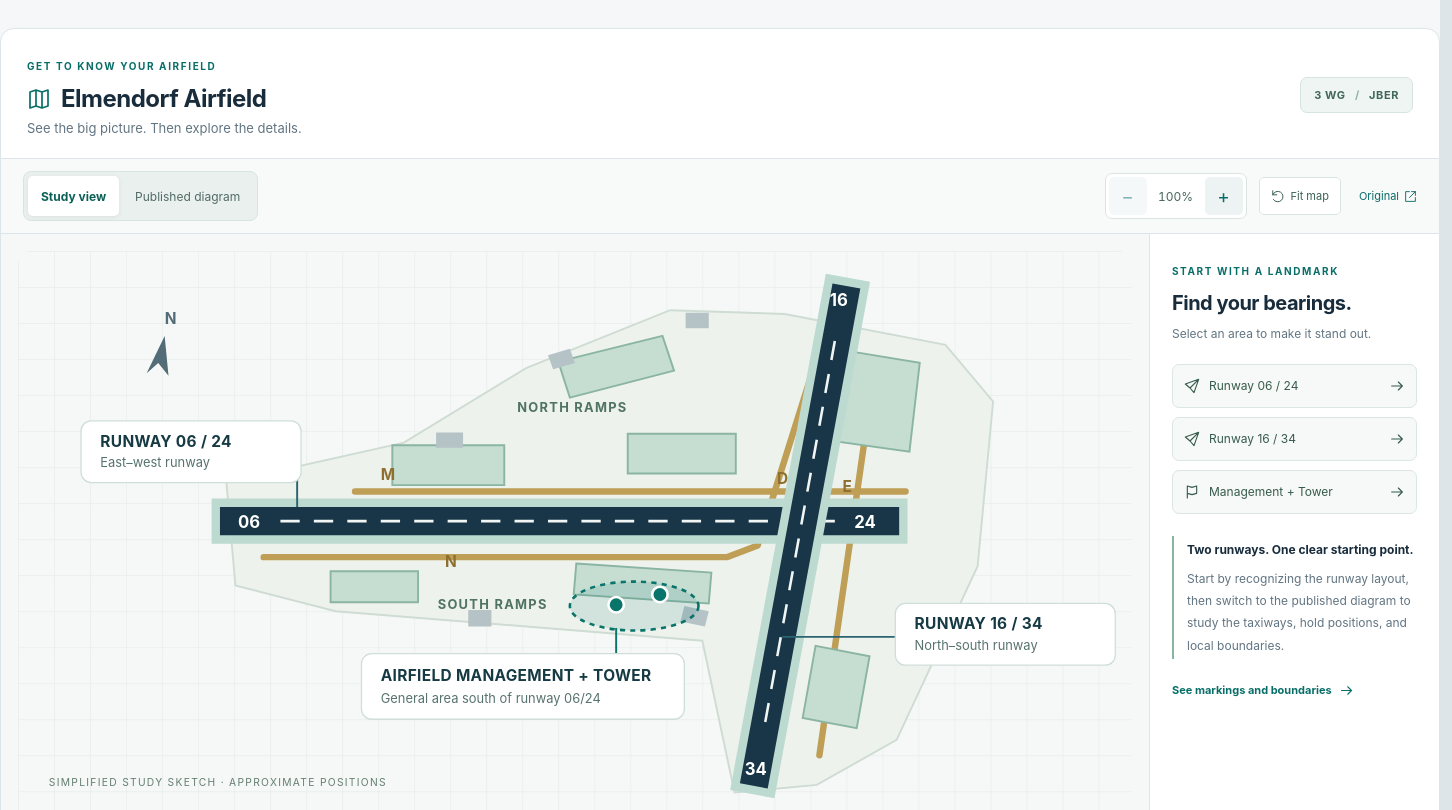
Test case: fit map resets both zoom and a focused feature
Click the button with aria-label "focus on runway 06" at (1294, 386), box [1172,364,1417,408]
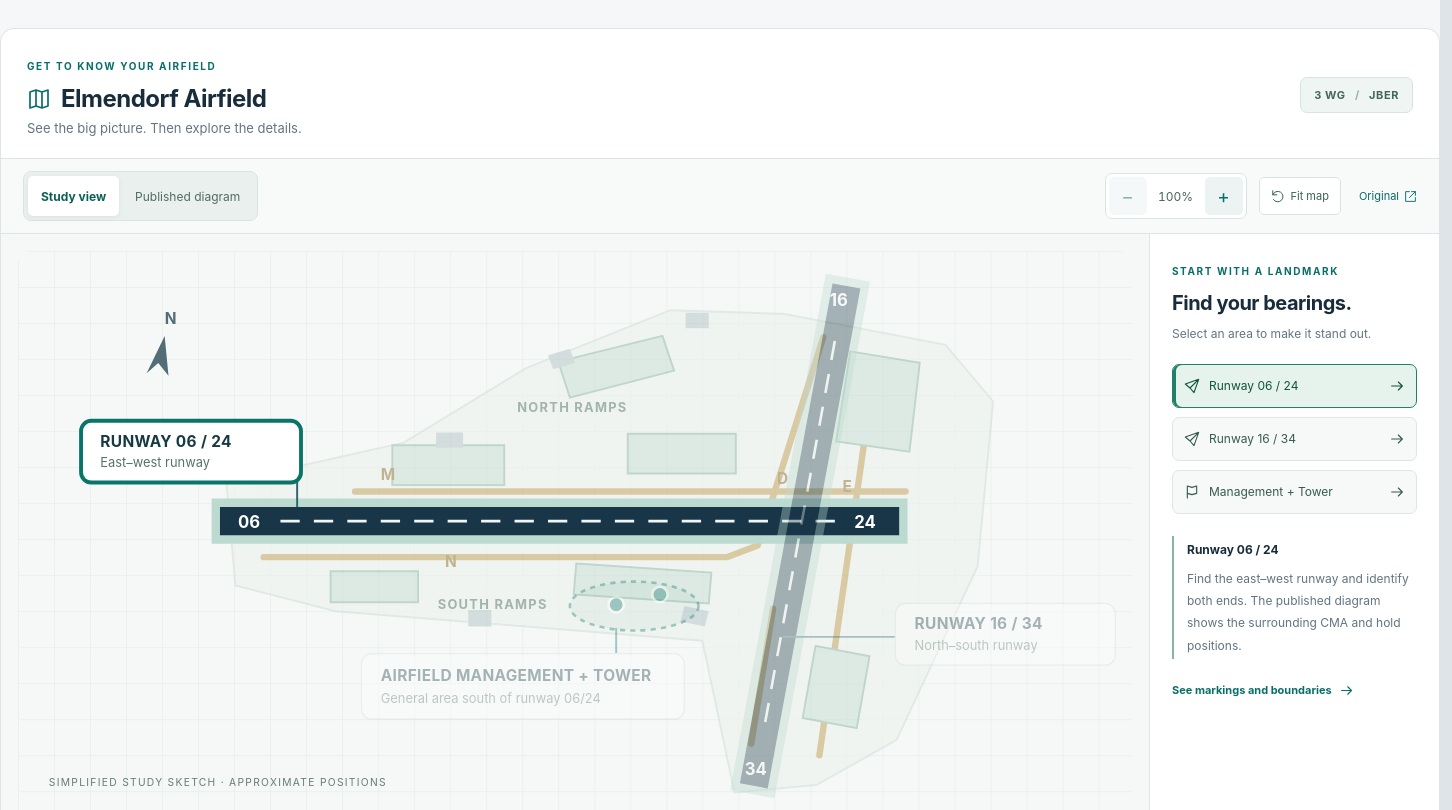
Expected: the button with aria-label "focus on runway 06" is pressed, [1172,364,1417,408]
Click the button named "zoom in map" at (1224, 196), box [1204,177,1242,215]
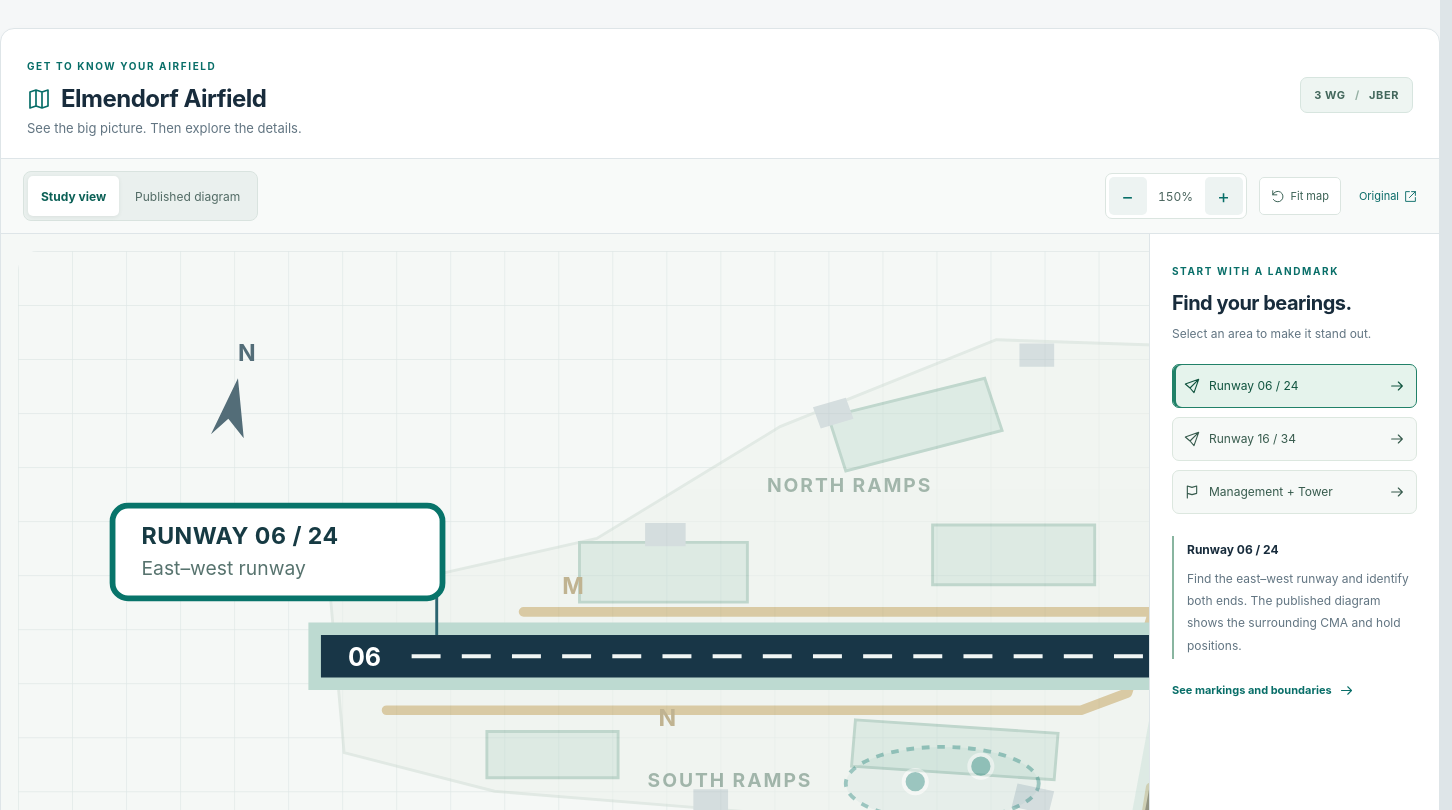
Expected: the text "150%" is shown, [1158,188,1193,204]
Click the button "Fit map" at (1300, 196), box [1258,177,1341,215]
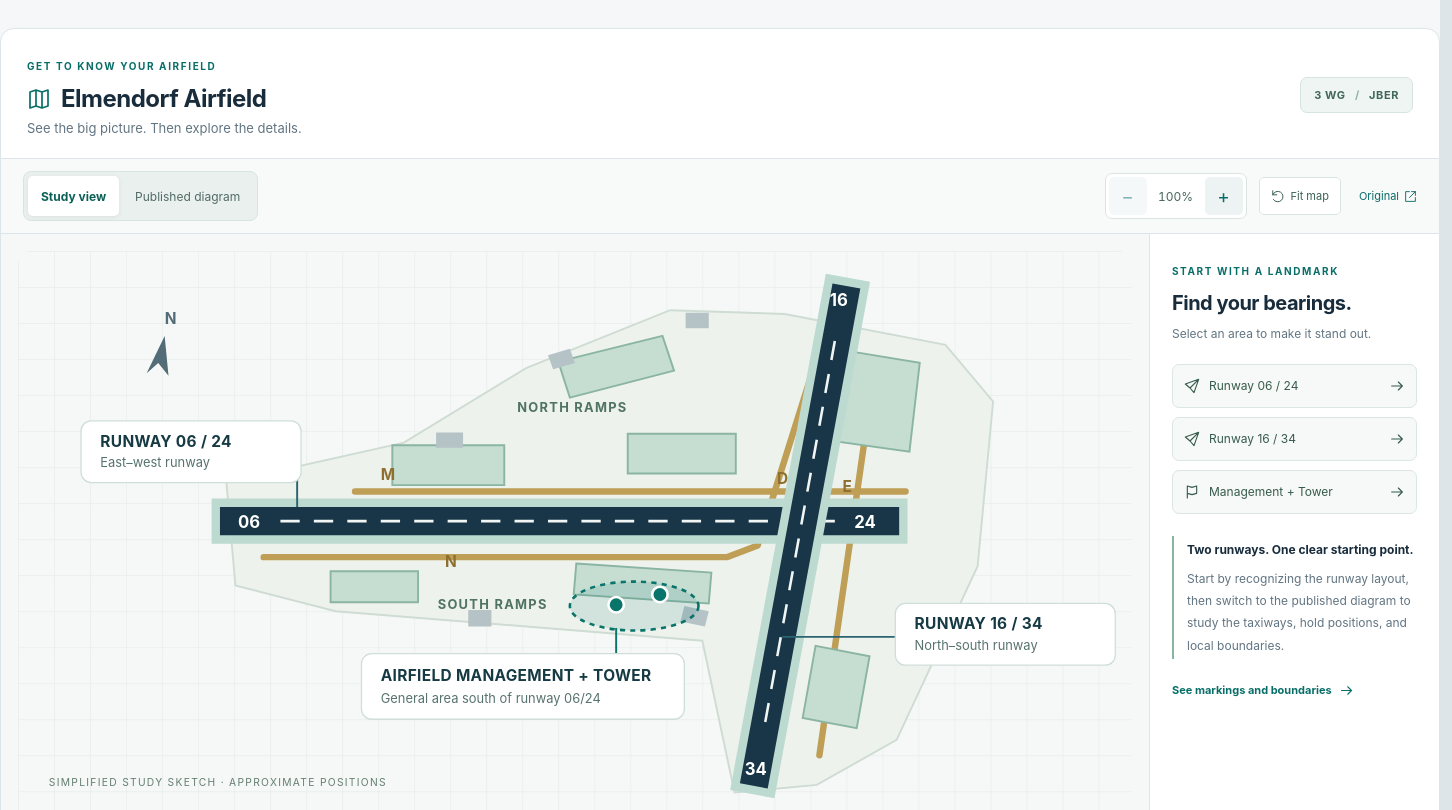
Expected: the text "100%" is shown, [1158,188,1193,204]
